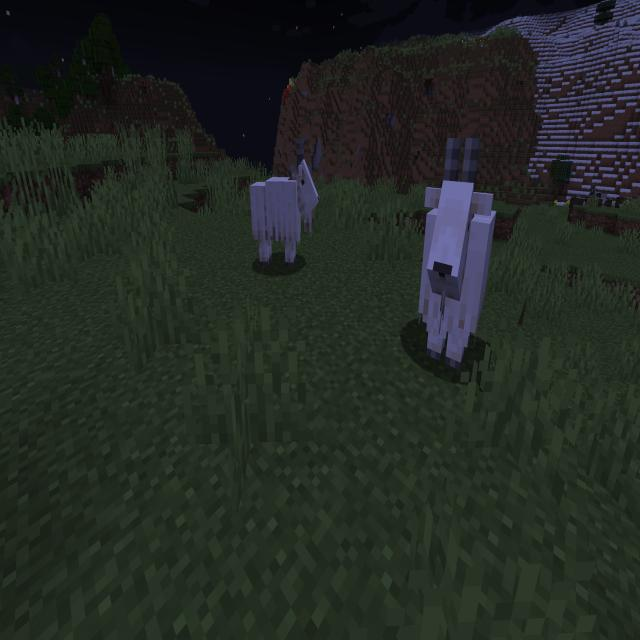Goat: (416, 134, 498, 373), (248, 137, 321, 270)
